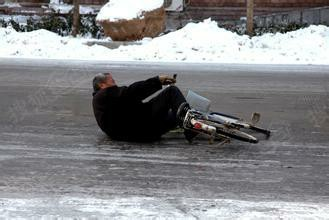fall: (82, 69, 210, 143)
